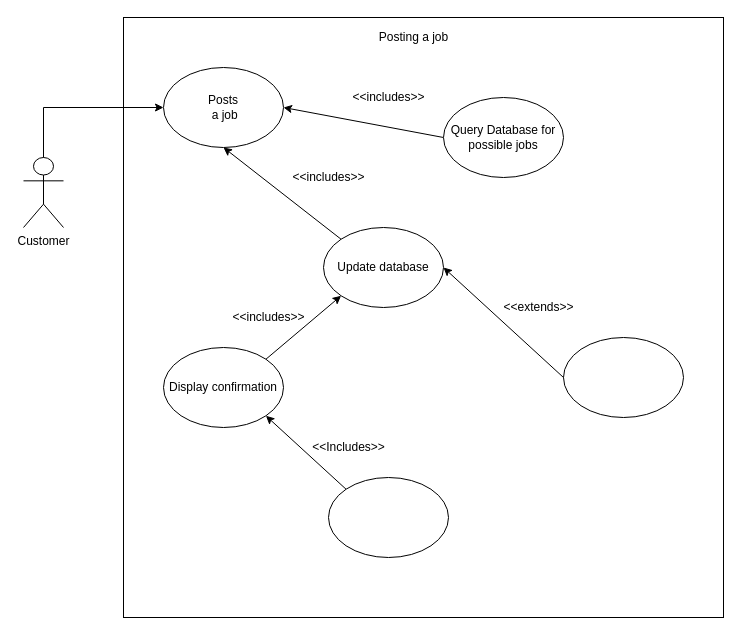
Image size: 741x635. Some labels were removed from this diagram. Here are the shapes that lost their labels. From the top down, the centre of each, then its label:
At (623,377): "Database Error".
At (388,517): "Customers dashboard is updated.".
